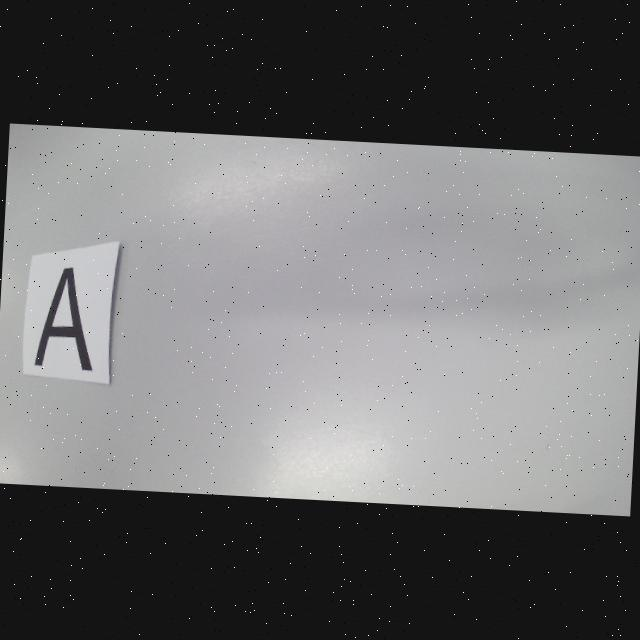FAKE: (33, 266, 98, 372)
